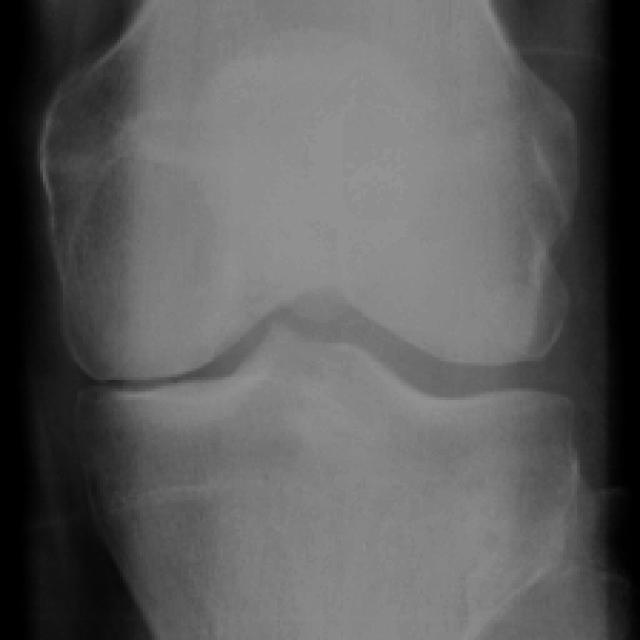femur: (41, 0, 579, 380)
tibia: (76, 326, 579, 640)
